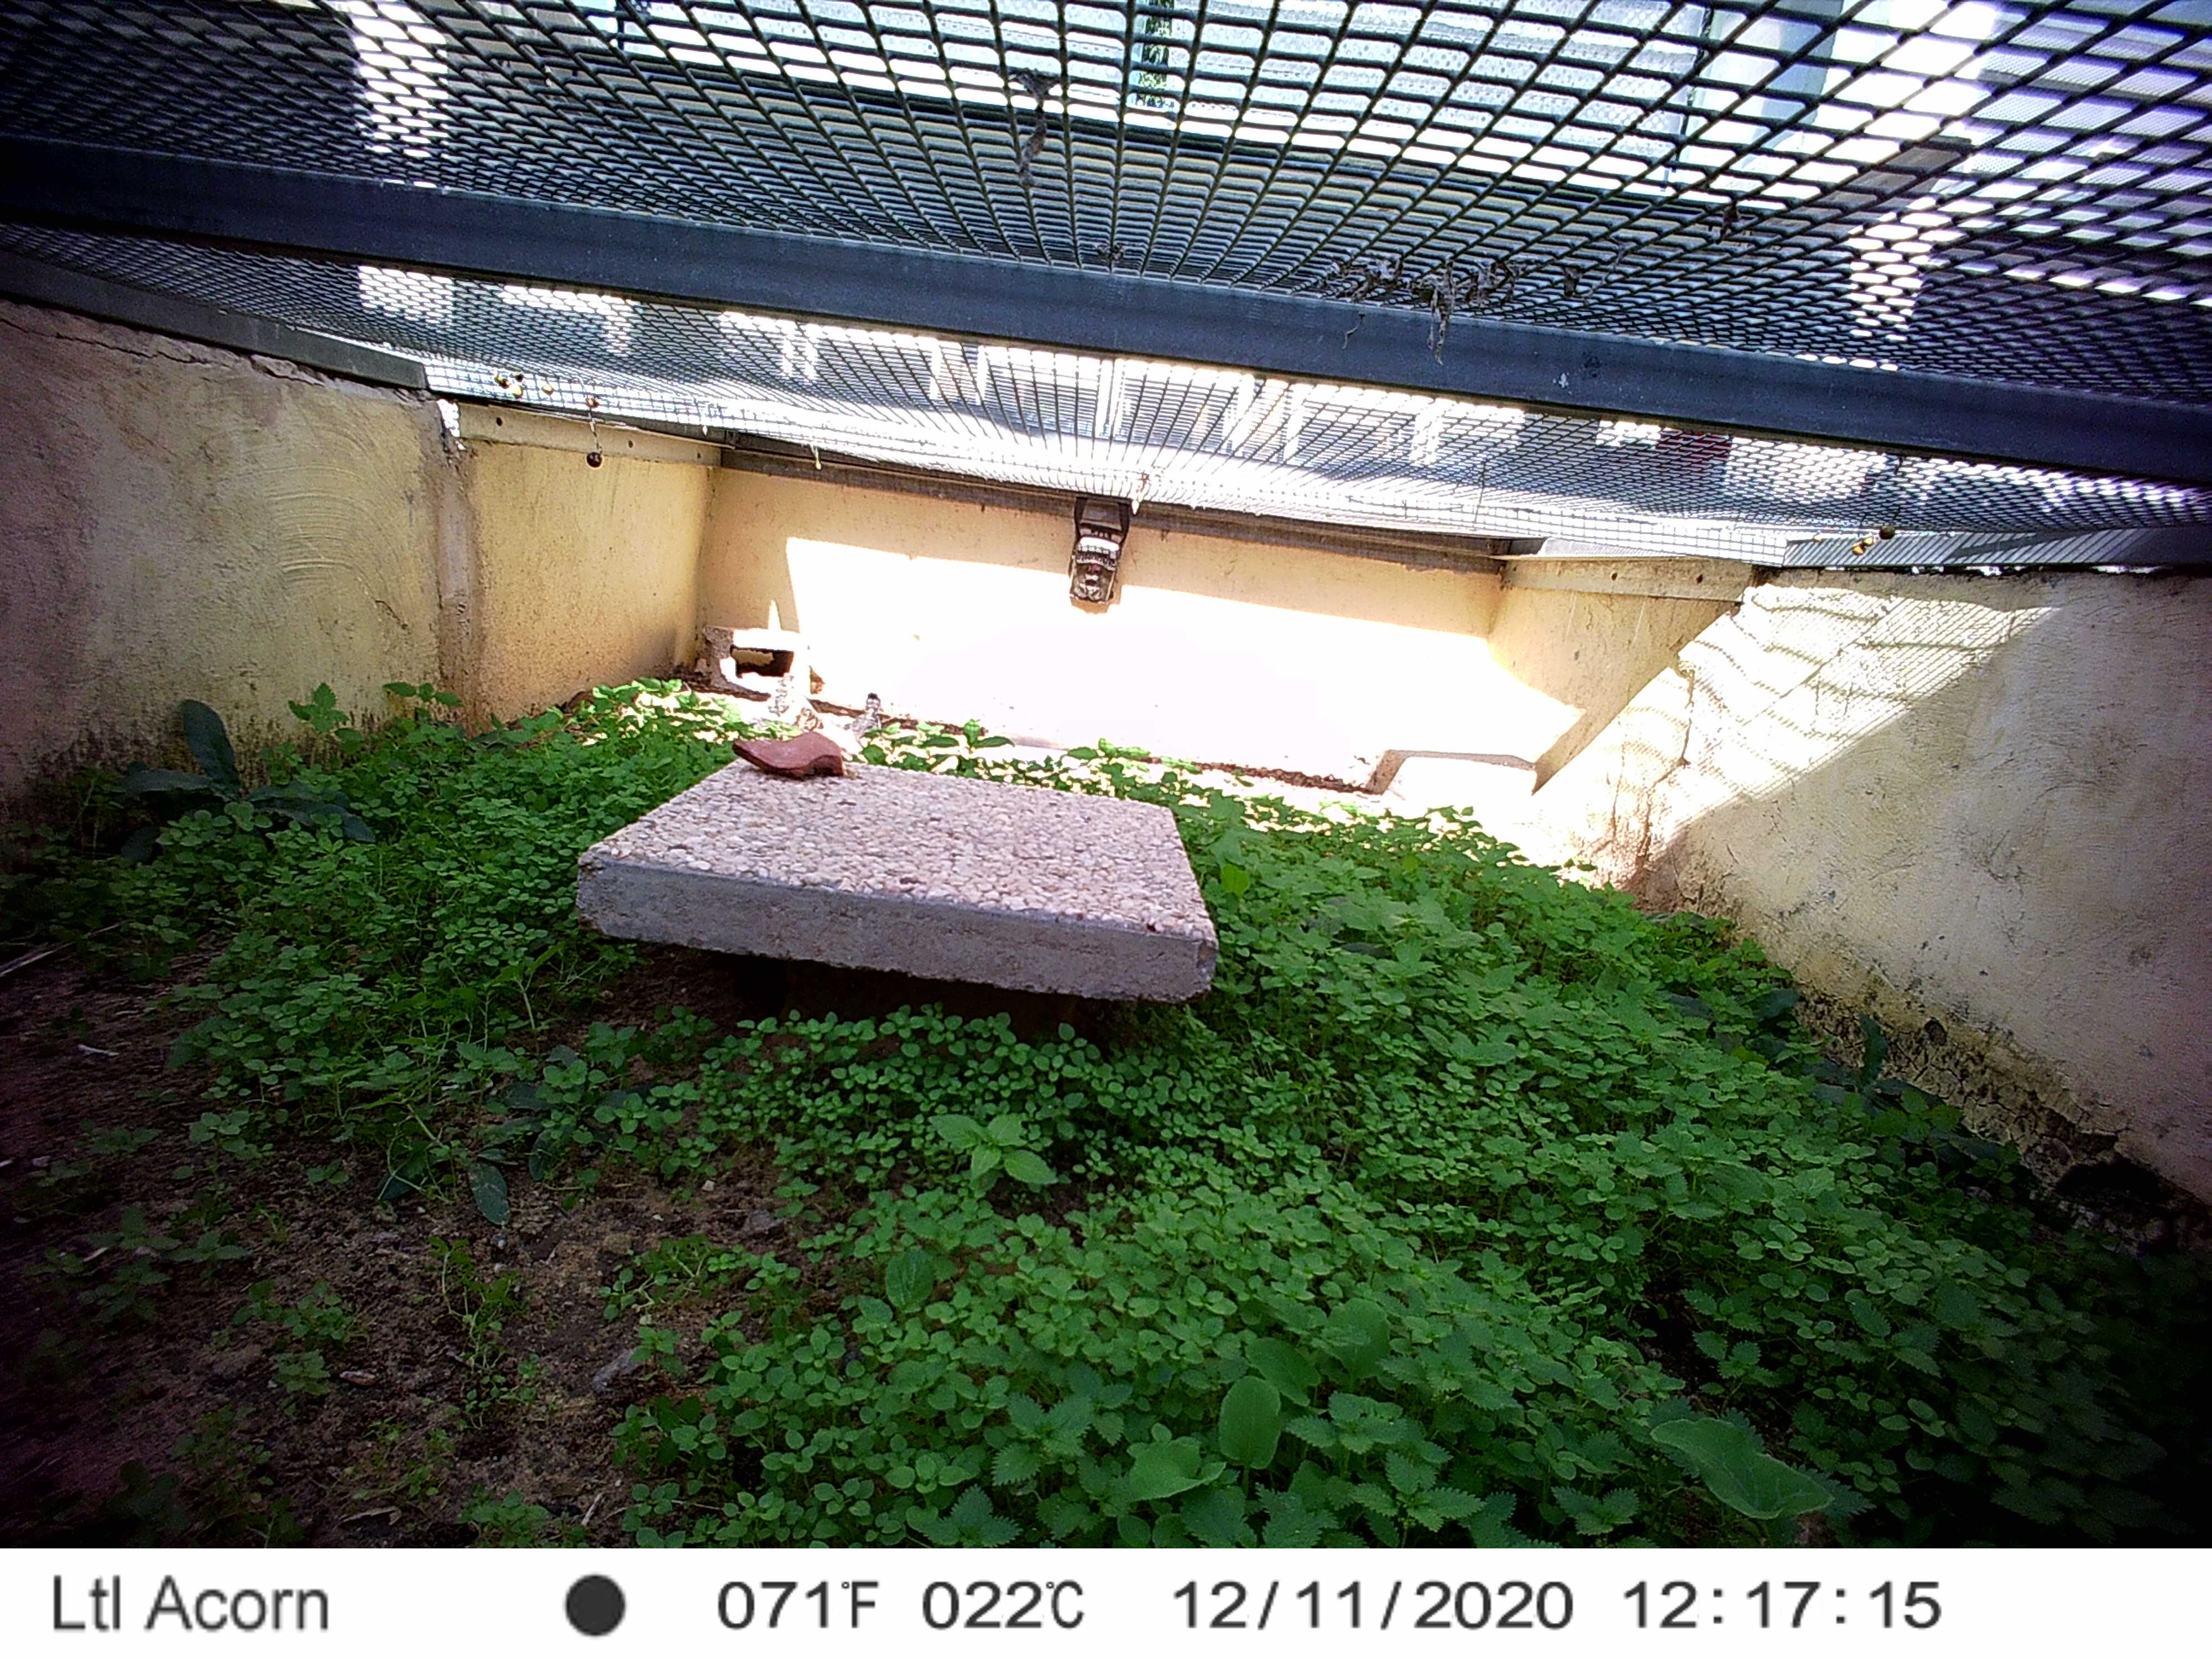lizard: (843, 692, 885, 753), (761, 671, 796, 721)
